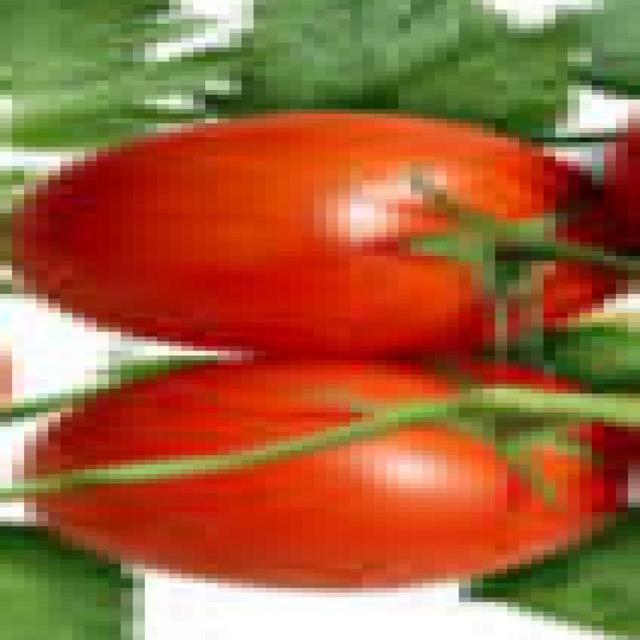Healthy Fruit: (202, 148, 427, 316)
